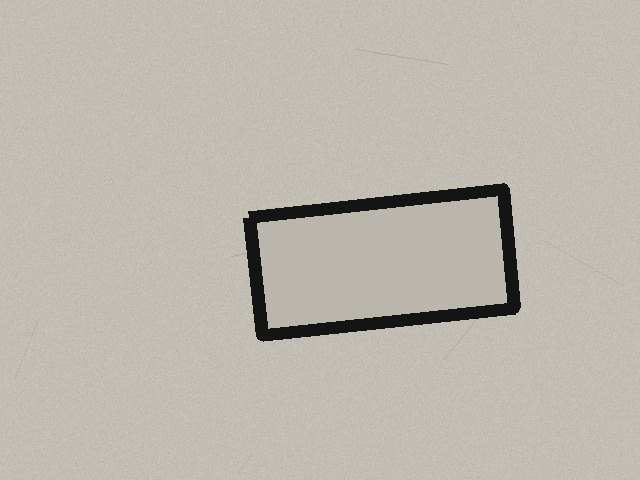parking_area: (249, 189, 514, 335)
